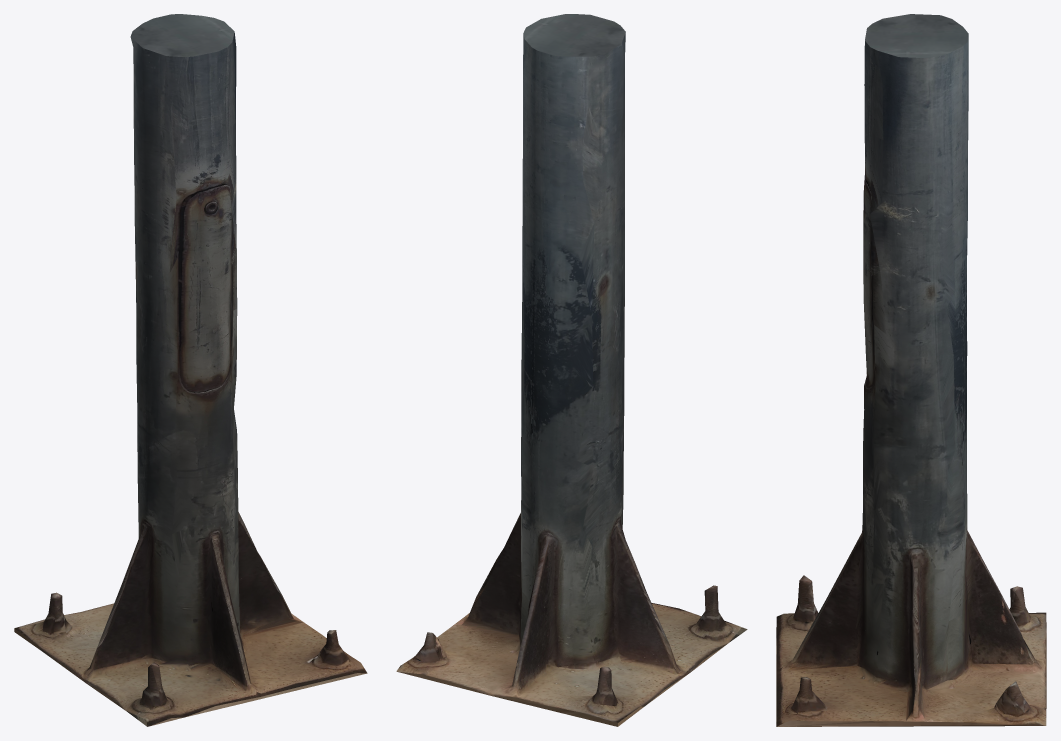
Rendered from pole.glb.
3 renders of one model, left to right at view 1: azimuth 30°, elevation 25°; view 2: azimuth 150°, elevation 25°; view 3: azimuth 270°, elevation 25°, orthographic. The views are drawn at different scales.
Visible parts, largest first — view 1: Retopo_3DModel_mesh; view 2: Retopo_3DModel_mesh; view 3: Retopo_3DModel_mesh.
Boxes of the visible parts, left/top/right/bottom form: Retopo_3DModel_mesh: left=14, top=14, right=367, bottom=726; Retopo_3DModel_mesh: left=396, top=14, right=747, bottom=726; Retopo_3DModel_mesh: left=776, top=14, right=1046, bottom=726.
Size of the model in its own units: 0.5741 by 1.53 by 0.5897.
4 materials, 4 textured.
